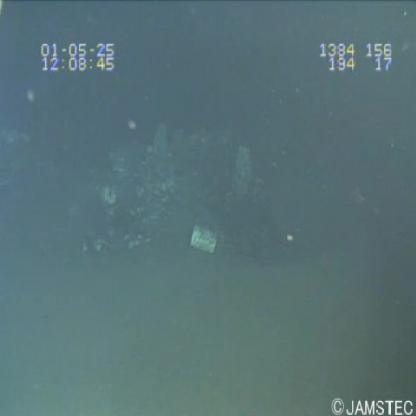Rác: (186, 218, 223, 266)
